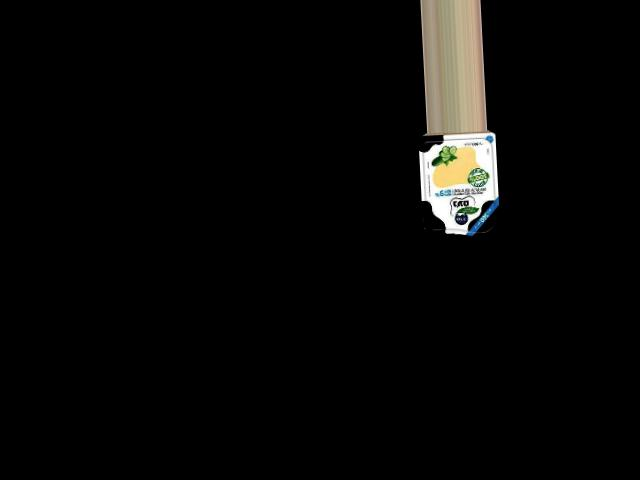cheese: (413, 128, 505, 237)
